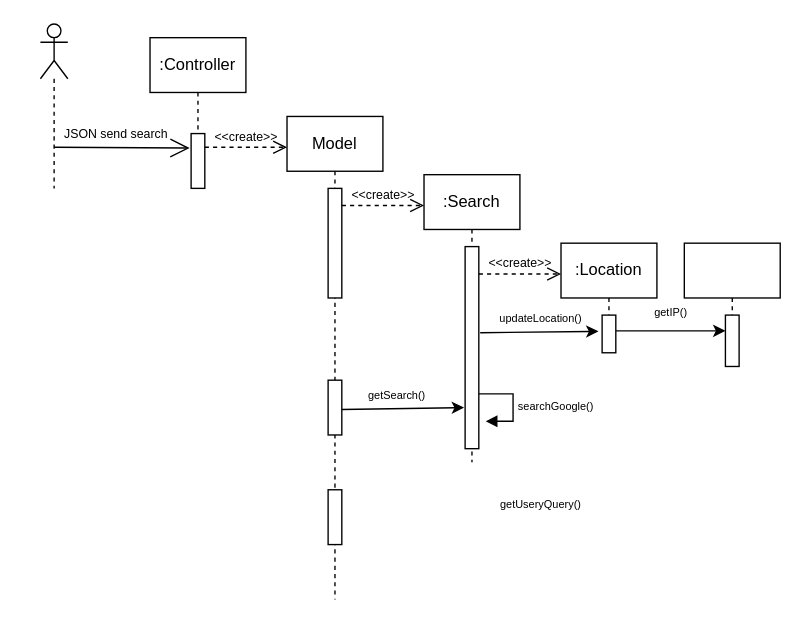
Image size: 804x623. Some labels were removed from this diagram. The shapes that lost their labels are listed below. From the top down, each one's centre as x and y in pixels, then its label:
(x=53, y=105): :Student
(x=731, y=304): :Computer
